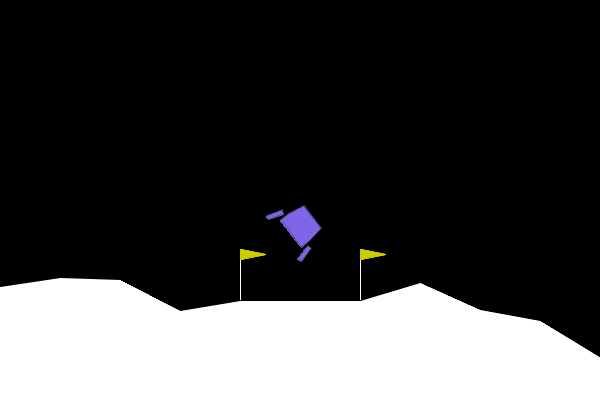lander: (264, 192, 332, 264)
